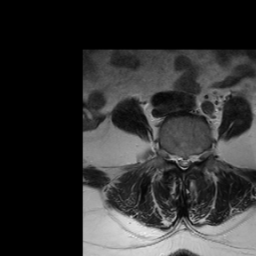CCS_severe_stenosis: (181, 152, 186, 174)
LFS_normal: (192, 148, 201, 167)
LLS_normal: (186, 149, 192, 172)
RFS_normal: (169, 146, 175, 167)
RLS_normal: (175, 149, 181, 171)
